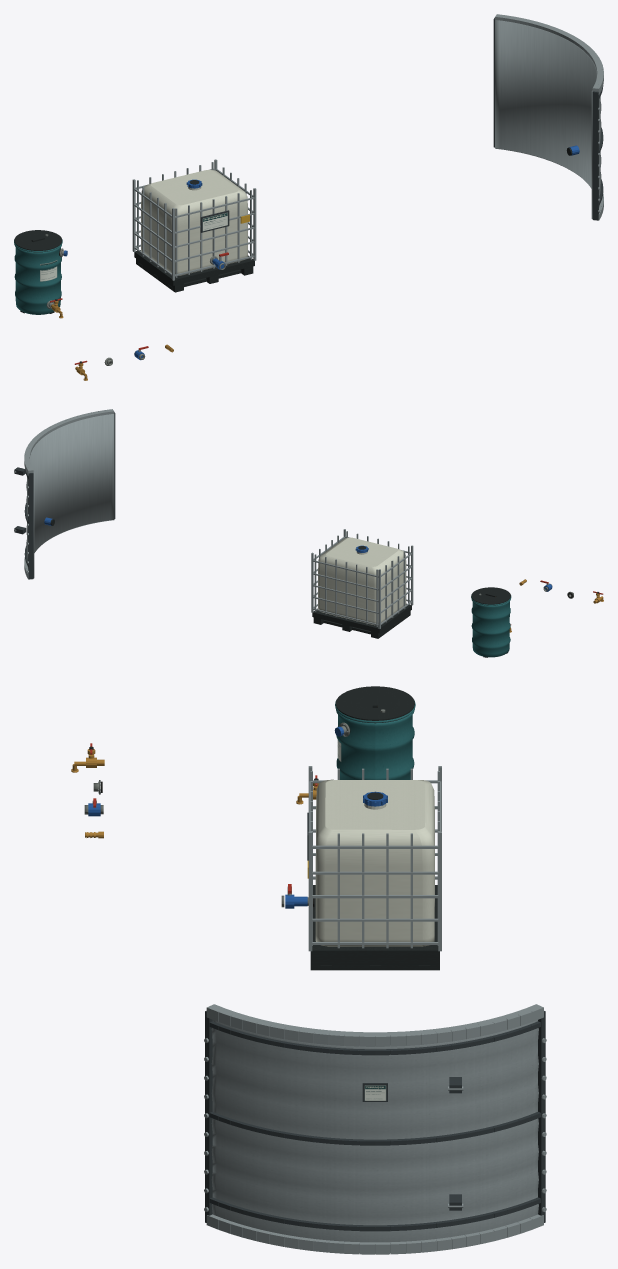
File: PZ_Water_Storage_Complete_Kit.glb
3 renders of one model, top to bottom at view 1: azimuth 30°, elevation 25°; view 2: azimuth 150°, elevation 25°; view 3: azimuth 270°, elevation 25°, orthographic. The views are drawn at different scales.
Parts seen in each view (by area): view 1: CISTERN_90deg_GalvanizedHollowPanel, IBC_1000L_HDPE_Bottle, RB200_MoldedHollowBody, IBC_PalletDeck, CISTERN_Left_JointLip, RB200_LidDisk; view 2: CISTERN_90deg_GalvanizedHollowPanel, IBC_1000L_HDPE_Bottle, RB200_MoldedHollowBody, IBC_PalletDeck, CISTERN_Right_JointLip, RB200_LidDisk; view 3: CISTERN_90deg_GalvanizedHollowPanel, IBC_1000L_HDPE_Bottle, RB200_MoldedHollowBody, RB200_LidDisk, IBC_PalletDeck, CISTERN_Right_JointLip, CISTERN_Left_JointLip, IBC_PalletSkid_3.
Boxes of the visible parts, left/top/right/bottom form: CISTERN_90deg_GalvanizedHollowPanel: left=495, top=20, right=601, bottom=218; IBC_1000L_HDPE_Bottle: left=141, top=169, right=247, bottom=275; RB200_MoldedHollowBody: left=14, top=247, right=61, bottom=314; IBC_PalletDeck: left=134, top=250, right=254, bottom=285; CISTERN_Left_JointLip: left=592, top=91, right=598, bottom=220; RB200_LidDisk: left=14, top=230, right=62, bottom=252; CISTERN_90deg_GalvanizedHollowPanel: left=26, top=414, right=114, bottom=577; IBC_1000L_HDPE_Bottle: left=318, top=537, right=406, bottom=625; RB200_MoldedHollowBody: left=471, top=602, right=510, bottom=657; IBC_PalletDeck: left=312, top=603, right=411, bottom=633; CISTERN_Right_JointLip: left=28, top=473, right=33, bottom=579; RB200_LidDisk: left=471, top=587, right=510, bottom=605; CISTERN_90deg_GalvanizedHollowPanel: left=211, top=1020, right=538, bottom=1242; IBC_1000L_HDPE_Bottle: left=315, top=779, right=434, bottom=946; RB200_MoldedHollowBody: left=336, top=715, right=414, bottom=779; RB200_LidDisk: left=335, top=686, right=414, bottom=723; IBC_PalletDeck: left=310, top=885, right=439, bottom=959; CISTERN_Right_JointLip: left=538, top=1011, right=545, bottom=1222; CISTERN_Left_JointLip: left=205, top=1011, right=212, bottom=1222; IBC_PalletSkid_3: left=310, top=960, right=439, bottom=970.
Size of the model in its own units: 8.85 by 1.86 by 3.67.
Materials: 1 (1 with a texture image).
